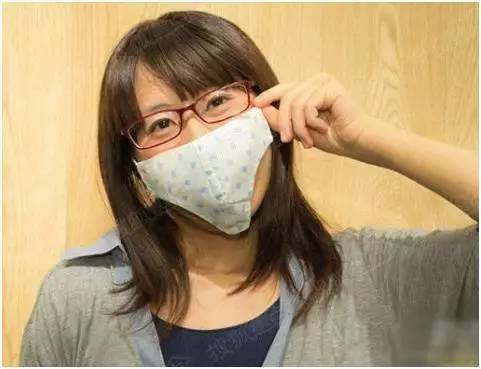mask: (122, 101, 298, 231)
